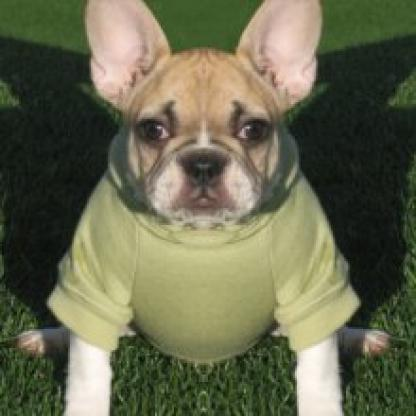French_bulldog: (0, 0, 412, 412)
